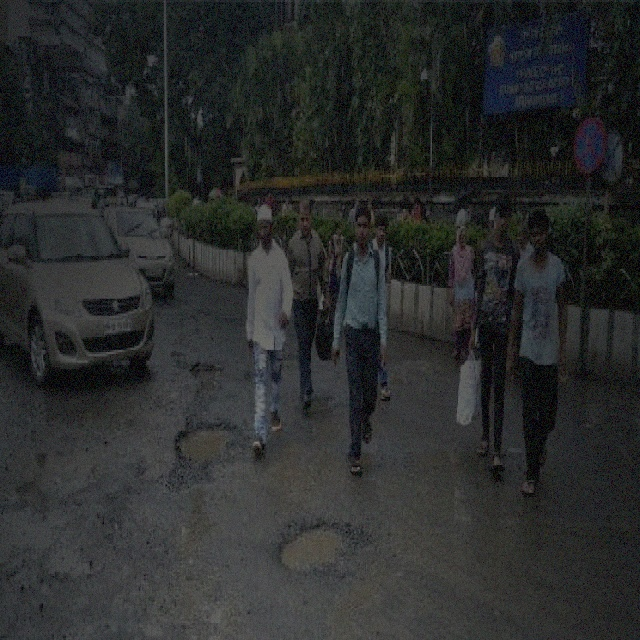pothole: (275, 516, 345, 572), (173, 416, 240, 471), (187, 356, 220, 384)
